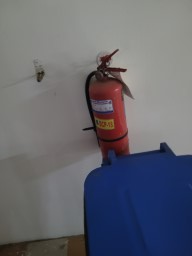fire_extinguisher: (36, 76, 122, 145)
